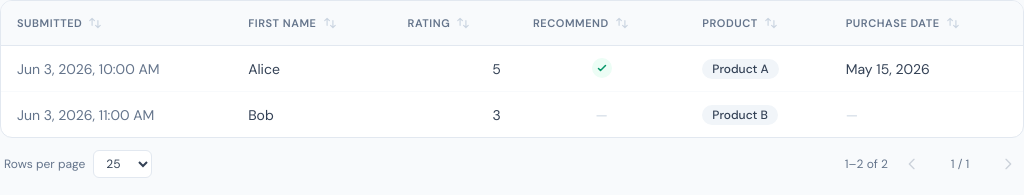
Test: DataTable — sorting › toggles sort direction when the same column header is clicked twice
The width and height of the screenshot is (1024, 195).
# First click → ascending (Alice before Bob)
Click the column heading "First Name" at [312, 23], box [232,1,392,46]
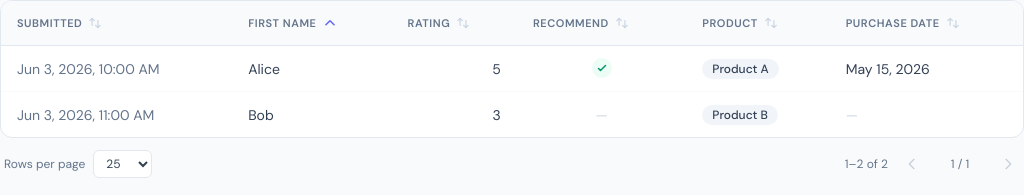
Expected: the row "Jun 3, 2026, 10:00 AM Alice 5 Product A May 15, 2026" is shown, [1,46,1023,92]
# Second click → descending (Bob before Alice)
Click the column heading "First Name" at [312, 23], box [232,1,392,46]
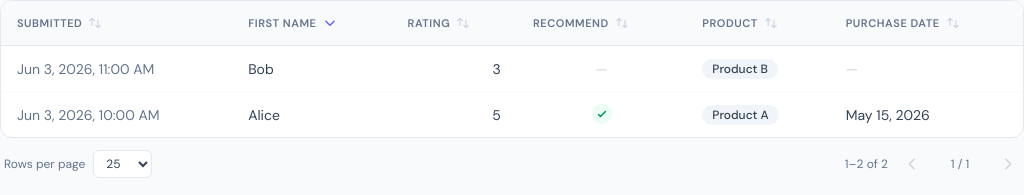
Now the row "Jun 3, 2026, 11:00 AM Bob 3 — Product B —" is shown, box [1,46,1023,92]
